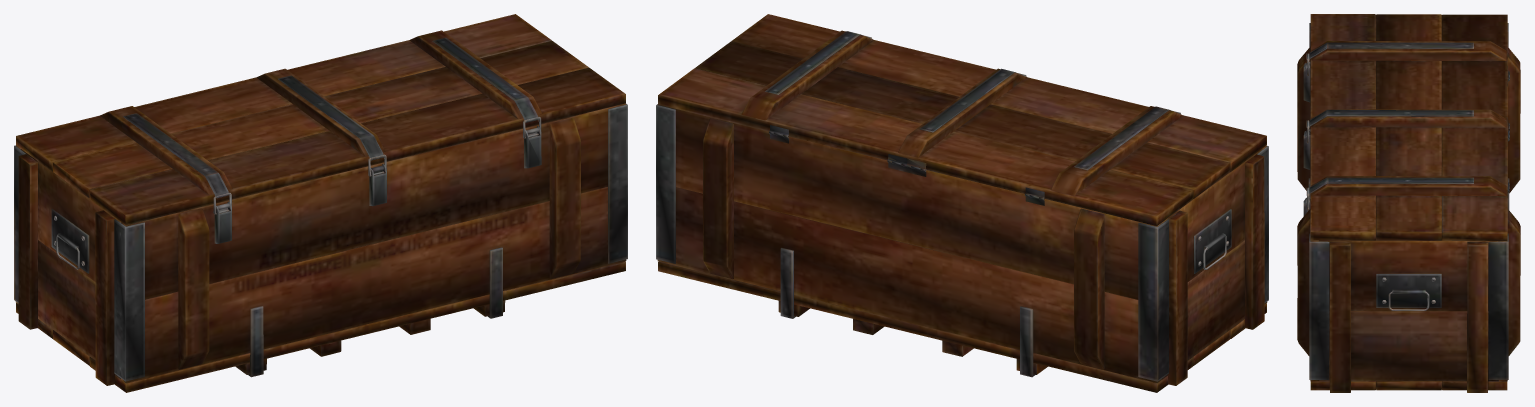
The model's file is wooden_military_crate.glb.
3 renders of one model, left to right at view 1: azimuth 30°, elevation 25°; view 2: azimuth 150°, elevation 25°; view 3: azimuth 270°, elevation 25°, orthographic. The views are drawn at different scales.
Visible parts, largest first — view 1: wooden_military_crate; view 2: wooden_military_crate; view 3: wooden_military_crate.
Boxes of the visible parts, <box> form: wooden_military_crate: <box>14,14,627,392</box>; wooden_military_crate: <box>656,14,1268,392</box>; wooden_military_crate: <box>1297,14,1520,392</box>.
Size of the model in its own units: 1.24 by 0.4639 by 0.5198.
Materials: 1 (1 with a texture image).
